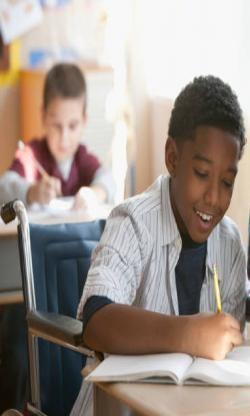good: (74, 65, 250, 397), (0, 58, 127, 239)
